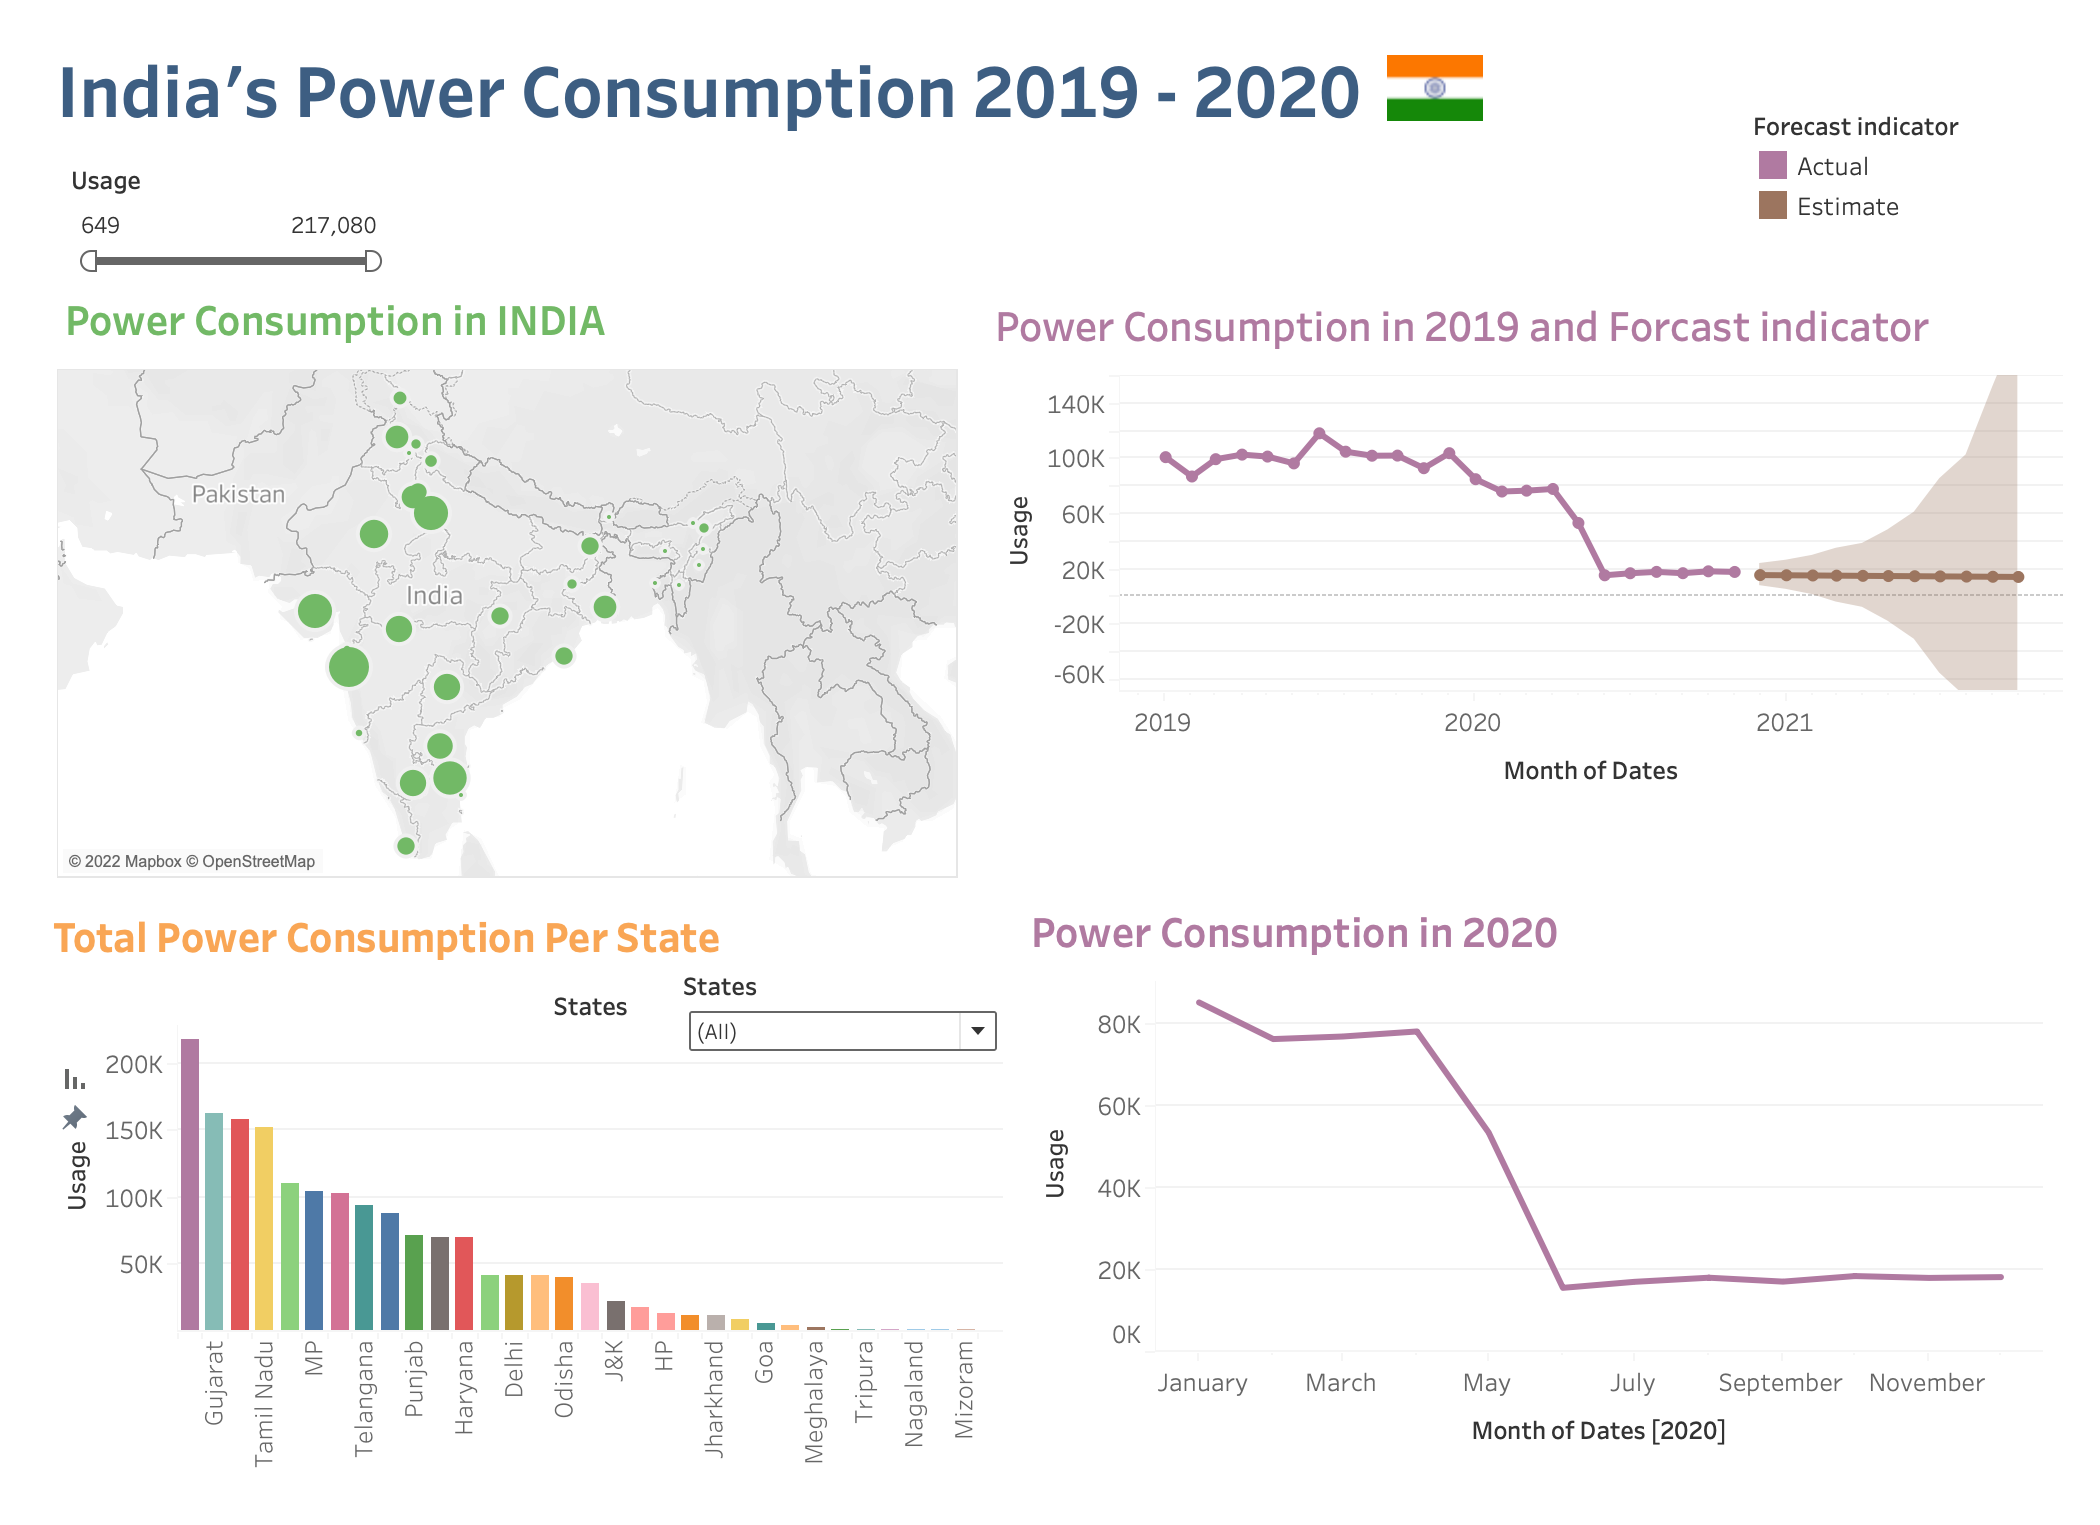

What the dashboard file says about the page in this screenshot:
{"tool":"tableau","page":{"name":"Dashboard 1","canvas":[1024,768],"ordinal":0},"visuals":[{"type":"text","box":[14,16,676,70]},{"type":"image","param":"/Users/aleenaalby/Desktop/India-flag-a4.jpg","box":[682,34,48,43]},{"type":"legend","title":"Sheet 3","param":"[federated.1rmsus31g1r5ss1g4ix1f0gz569u].[none:Forecast Indicator:nk]","box":[865,61,140,58]},{"type":"filter","title":"Sheet 2","param":"[federated.1rmsus31g1r5ss1g4ix1f0gz569u].[sum:Usage:qk]","box":[24,88,160,61]},{"type":"worksheet","title":"Sheet 2","mark":"Automatic","rows":["latitude"],"cols":["longitude"],"box":[17,148,451,298]},{"type":"worksheet","title":"Sheet 3","mark":"Automatic","rows":["Usage"],"cols":["Dates"],"box":[482,151,538,256]},{"type":"worksheet","title":"Sheet 4","mark":"Line","rows":["Usage"],"cols":["Dates"],"box":[500,454,510,283]},{"type":"worksheet","title":"Sheet 1","mark":"Automatic","rows":["Usage"],"cols":["States"],"box":[11,457,479,295]},{"type":"filter","title":"Sheet 1","param":"[federated.1rmsus31g1r5ss1g4ix1f0gz569u].[none:States:nk]","box":[330,491,160,47]}]}

Visuals, with their boxes on the page's 1024x768 design canvas (x1, y1, x2, y2). These are canvas units, not pixel positions in the 2100x1525 screenshot, which may show the page scaled, cropped or inside an application window:
text: <box>14,16,690,86</box>
image: <box>682,34,730,77</box>
"Sheet 3" legend: <box>865,61,1005,119</box>
"Sheet 2" filter: <box>24,88,184,149</box>
"Sheet 2" worksheet: <box>17,148,468,446</box>
"Sheet 3" worksheet: <box>482,151,1020,407</box>
"Sheet 4" worksheet (Line marks): <box>500,454,1010,737</box>
"Sheet 1" worksheet: <box>11,457,490,752</box>
"Sheet 1" filter: <box>330,491,490,538</box>
